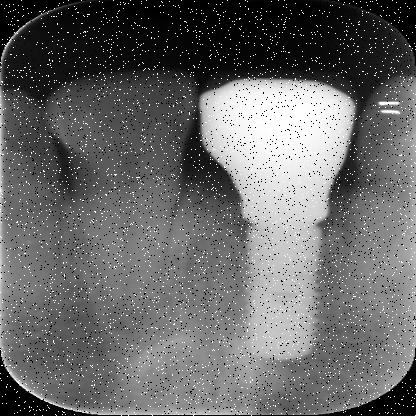ITI: (234, 224, 336, 364)
